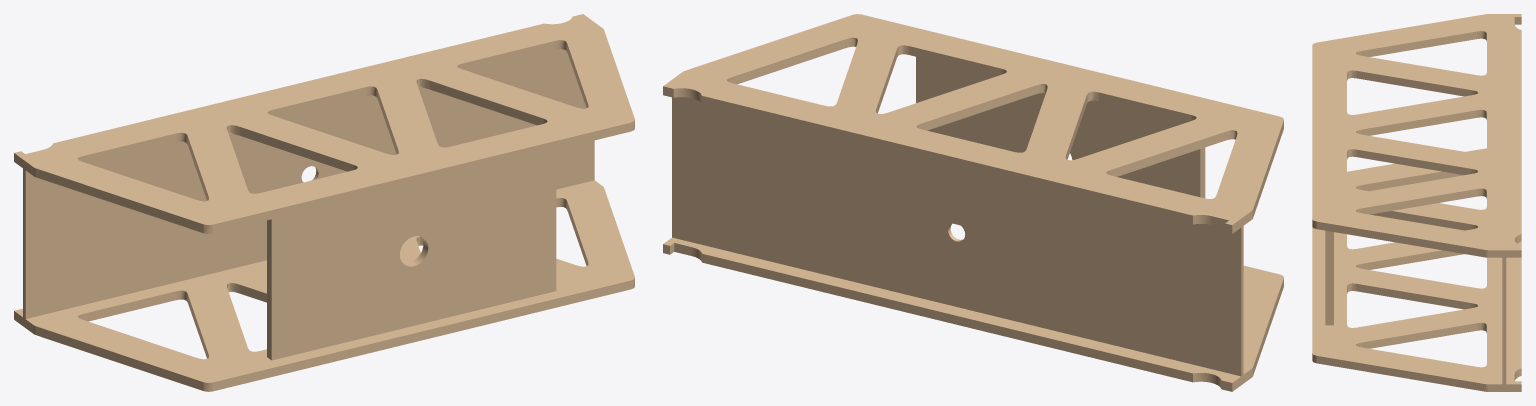
The model's file is bridge.glb.
3 views of the same model, side by side, from view 1: azimuth 30°, elevation 25°; view 2: azimuth 150°, elevation 25°; view 3: azimuth 270°, elevation 25° (orthographic). The views are drawn at different scales.
Parts seen in each view (by area): view 1: Part 1 (×4); view 2: Part 1 (×4); view 3: Part 1 (×4).
Boxes of the visible parts, bbox=[...] form: Part 1 (×4): bbox=[14, 14, 634, 391]; Part 1 (×4): bbox=[663, 14, 1283, 391]; Part 1 (×4): bbox=[1312, 14, 1521, 391].
Size of the model in its own units: 400 by 112 by 150.
